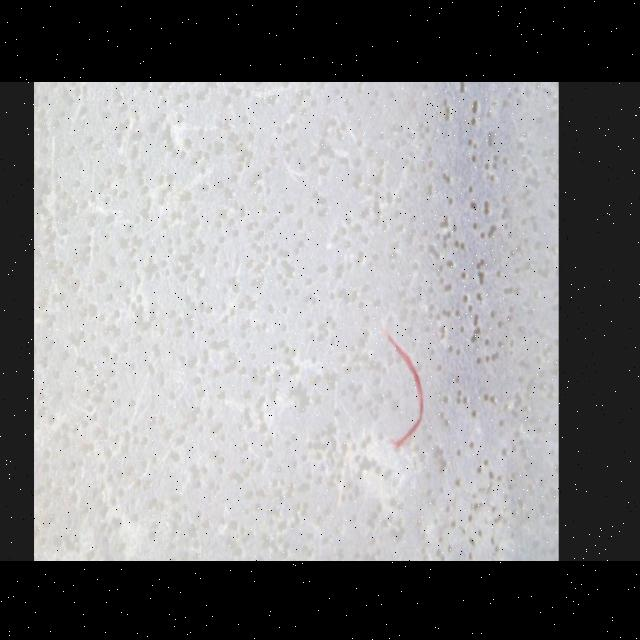Fibre: (382, 313, 428, 453)
